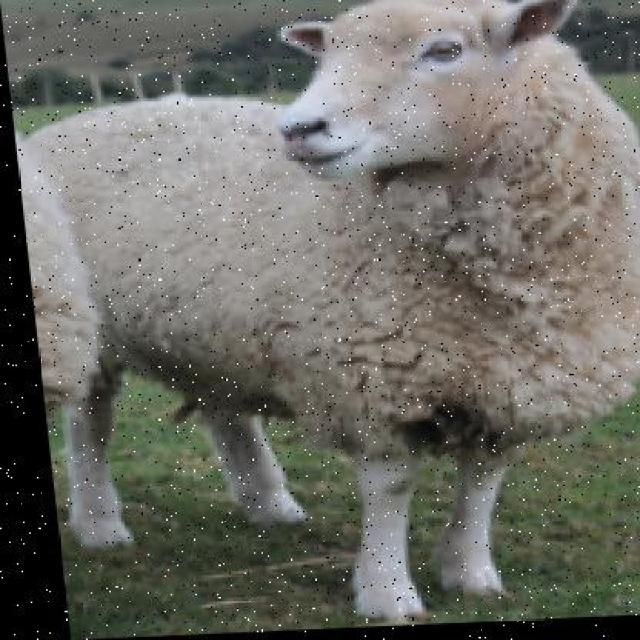Sheep: (3, 0, 639, 637)
